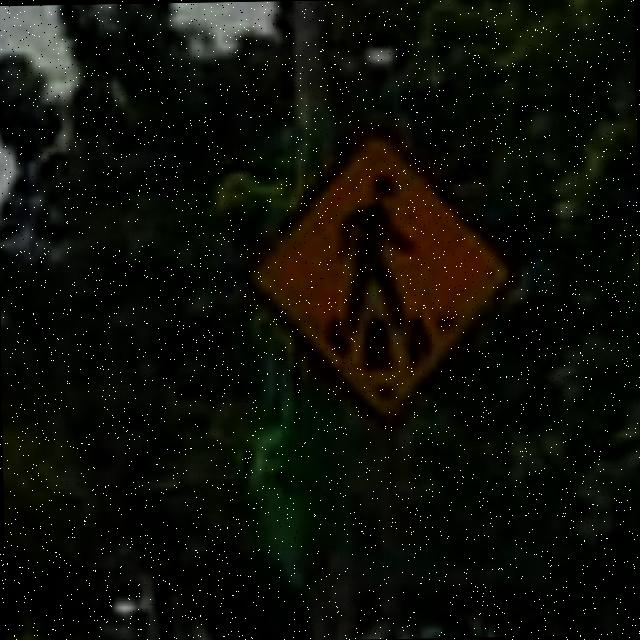Przejscie dla pieszych: (258, 133, 504, 415)
